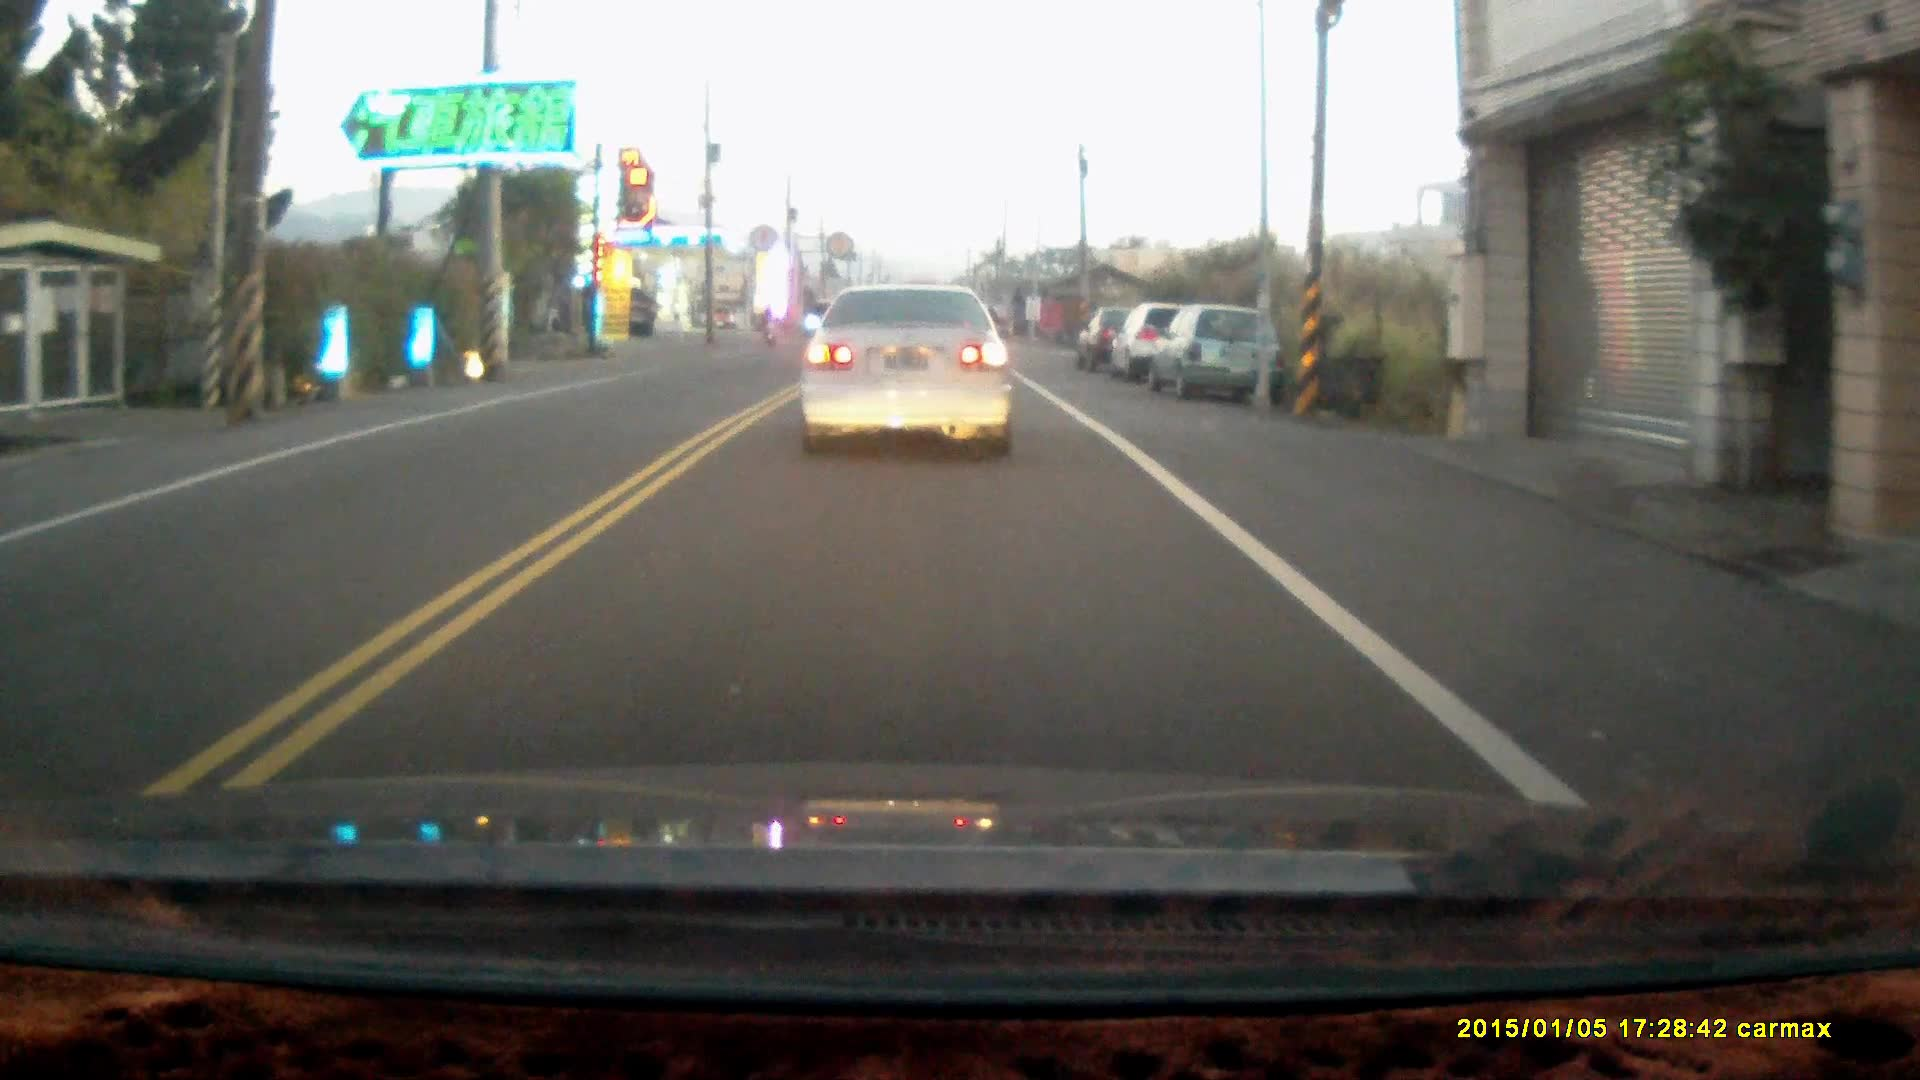rider: (758, 303, 778, 345)
vehicle: (798, 278, 1015, 463), (1157, 306, 1285, 406), (1117, 300, 1224, 381), (1079, 309, 1173, 374)
